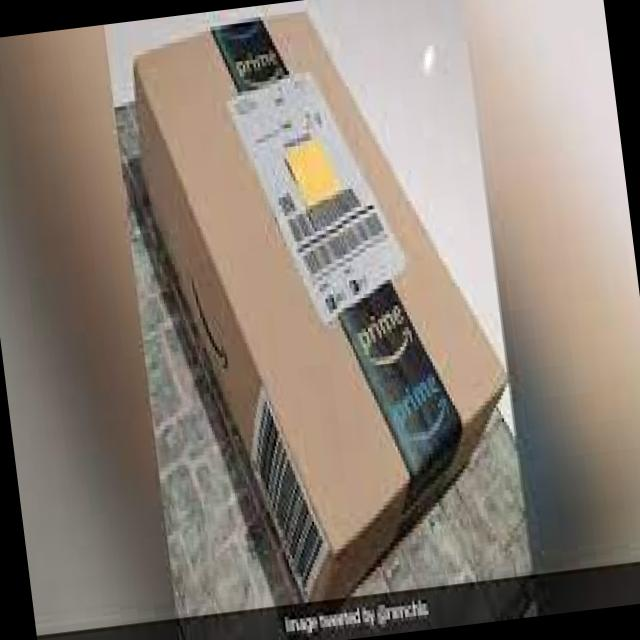box: (133, 10, 509, 603)
